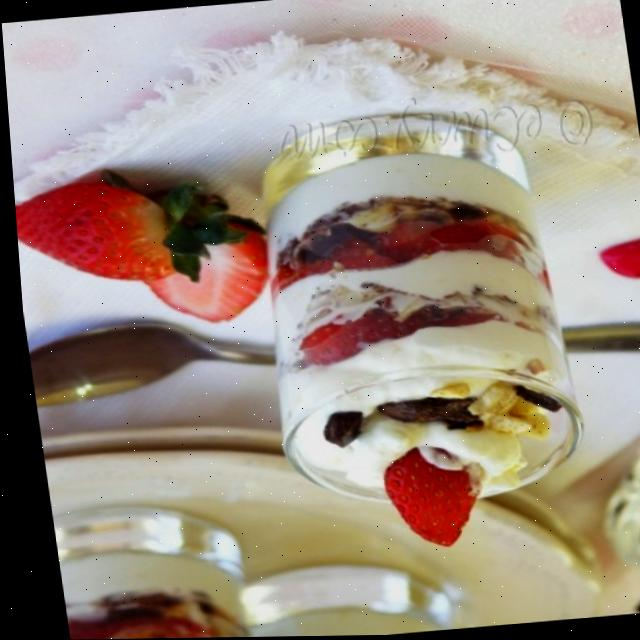蛋糕甜品: (204, 81, 605, 538)
